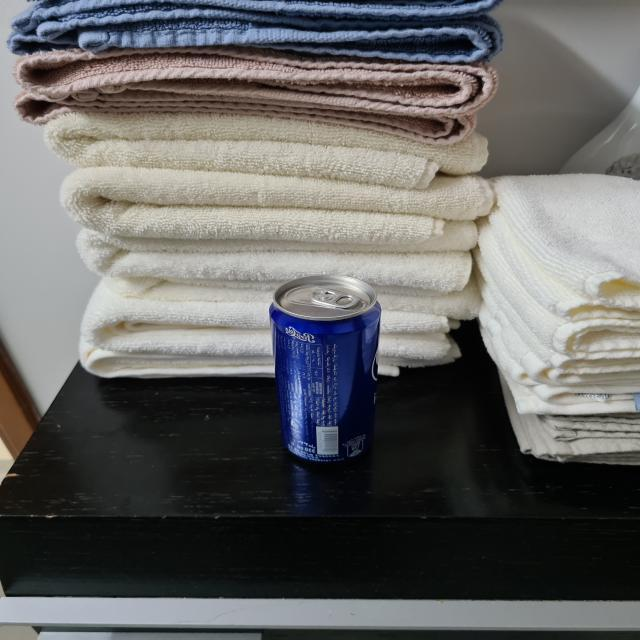can: (268, 273, 380, 469)
